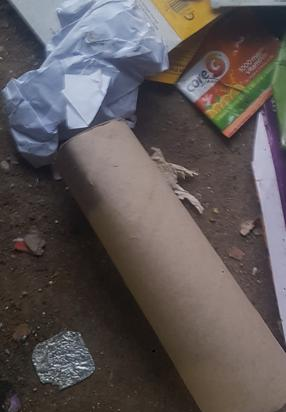paper: (55, 119, 286, 412), (2, 0, 168, 173)
